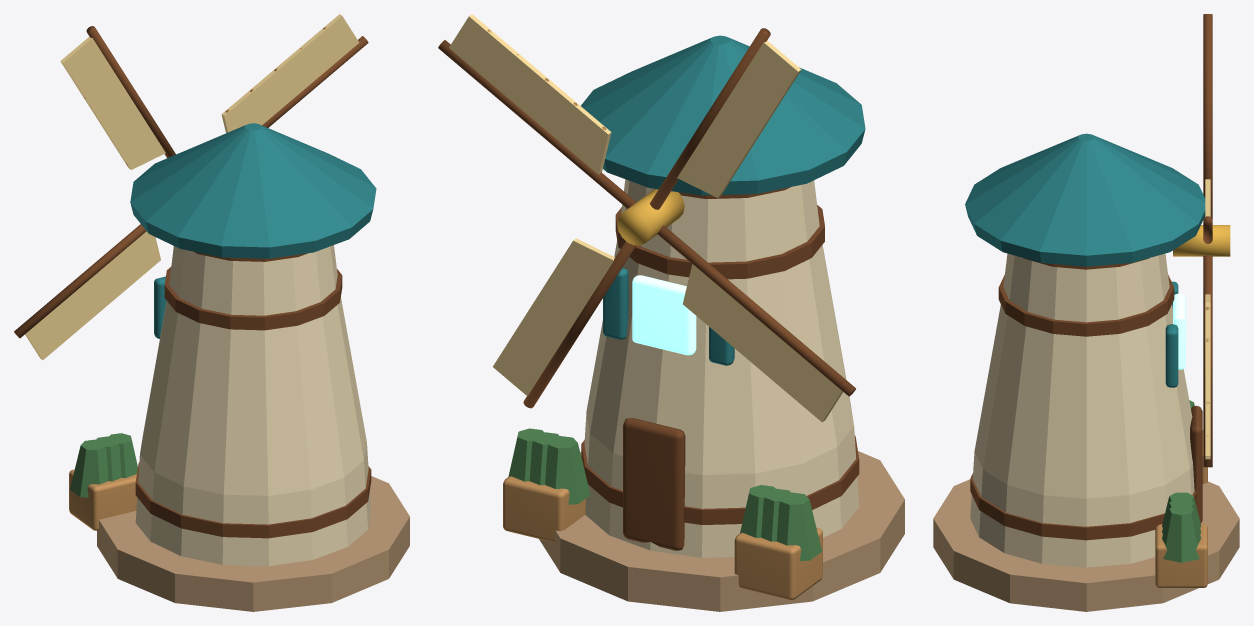
File: meadow-windmill.glb
3 renders of one model, left to right at view 1: azimuth 30°, elevation 25°; view 2: azimuth 150°, elevation 25°; view 3: azimuth 270°, elevation 25°, orthographic. The views are drawn at different scales.
Visible parts, largest first — view 1: Structure, WindmillRotor; view 2: Structure, WindmillRotor; view 3: Structure, WindmillRotor.
Boxes of the visible parts, x1=… form: Structure: x1=69, y1=123, x2=409, y2=611; WindmillRotor: x1=14, y1=14, x2=368, y2=359; Structure: x1=503, y1=35, x2=904, y2=611; WindmillRotor: x1=438, y1=14, x2=855, y2=422; Structure: x1=933, y1=133, x2=1239, y2=611; WindmillRotor: x1=1173, y1=14, x2=1230, y2=467.
Size of the model in its own units: 3.77 by 5.08 by 2.9.
